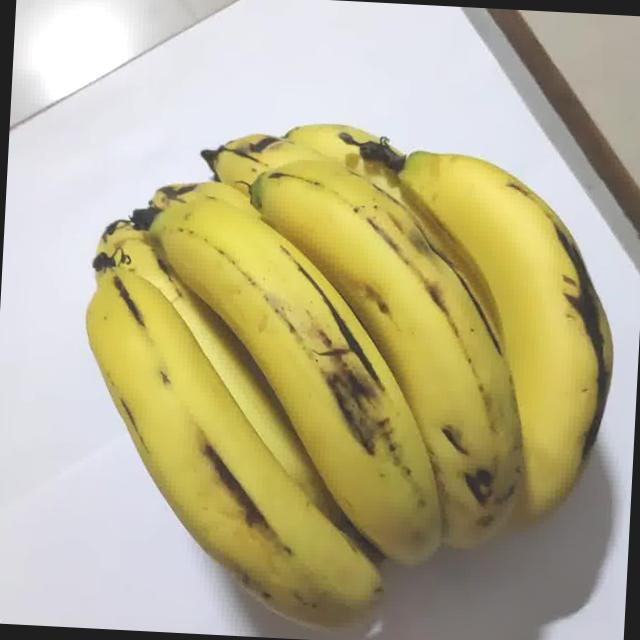banana_pacche: (35, 20, 630, 640)
